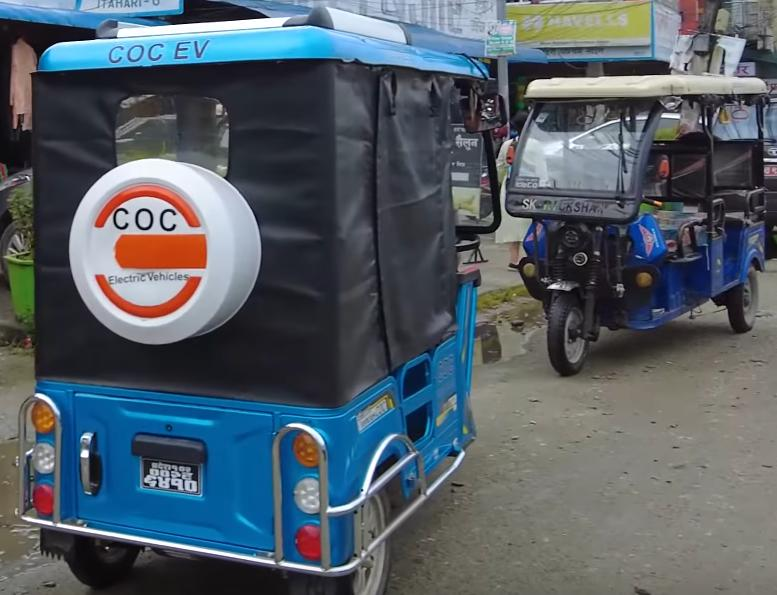e-rickshaw: (14, 34, 505, 595), (511, 69, 777, 390)
